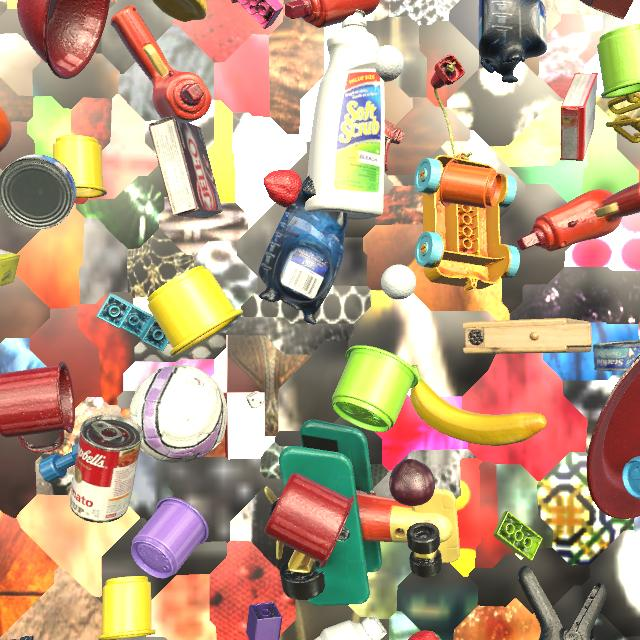ycb_003_cracker_box: (231, 0, 239, 3)
ycb_004_sugar_box: (0, 249, 20, 286)
ycb_005_tomato_soup_can: (70, 415, 143, 523)
ycb_006_mustard_bottle: (152, 0, 207, 22)
ycb_007_tuna_fish_can: (0, 154, 76, 229), (593, 340, 640, 371)
ycb_008_pudding_box: (148, 116, 223, 218)
ycb_009_gelatin_box: (560, 73, 598, 161)
ycb_011_banana: (410, 365, 547, 446)
ycb_012_strawberry: (263, 170, 303, 207), (408, 630, 441, 640)
ycb_017_orange: (0, 106, 12, 152)
ycb_018_plum: (389, 459, 435, 506)
